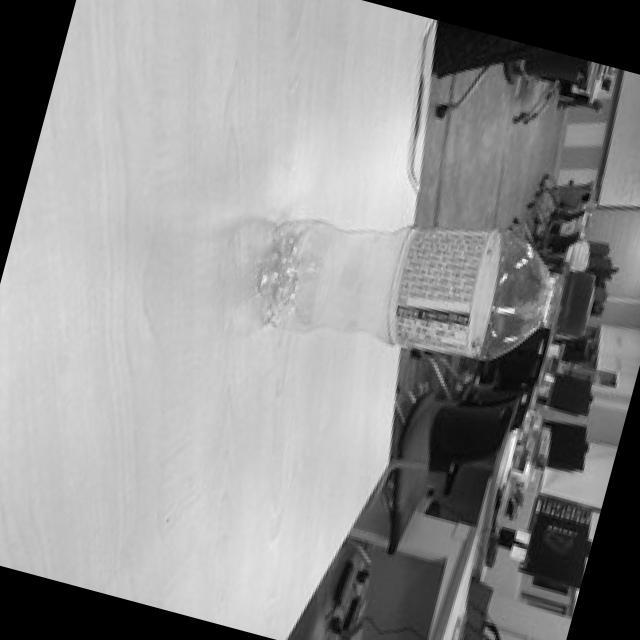good: (238, 167, 610, 410)
